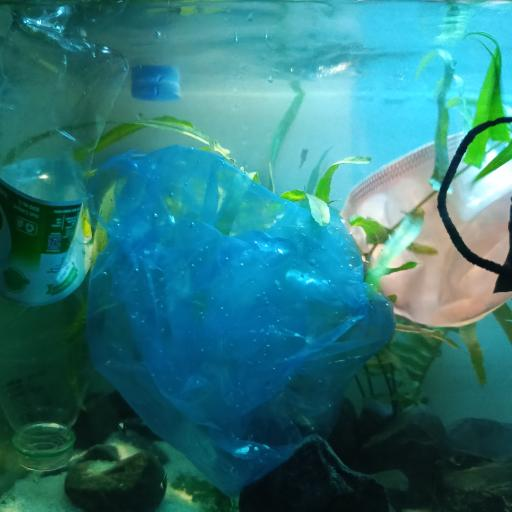bottle_cap: (132, 77, 182, 103)
mask: (342, 125, 512, 327), (437, 116, 512, 292)
plastic_bag: (86, 147, 394, 496)
plastic_bottle: (1, 16, 127, 473)
